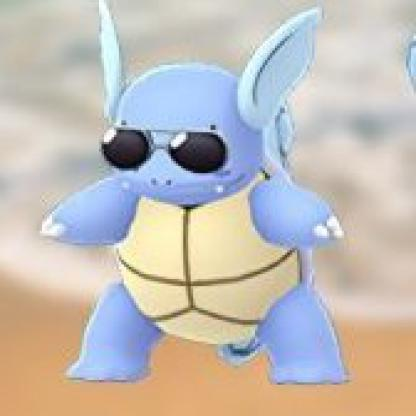Wartortle: (25, 1, 360, 397)
